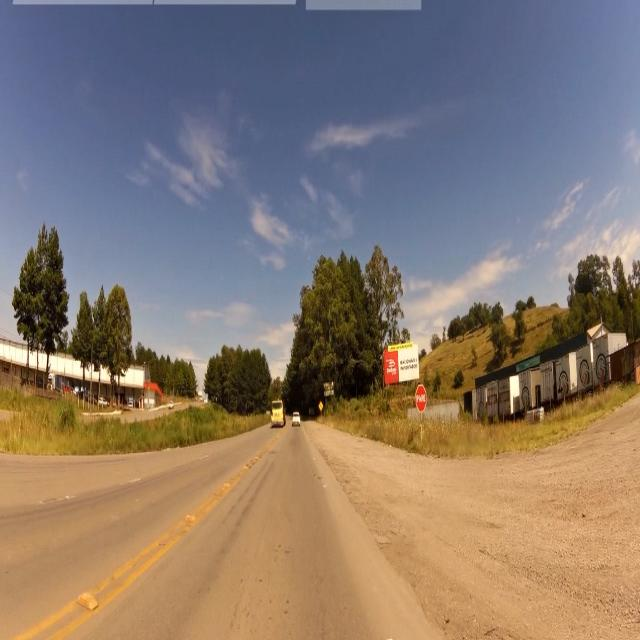R-1: (414, 384, 431, 416)
